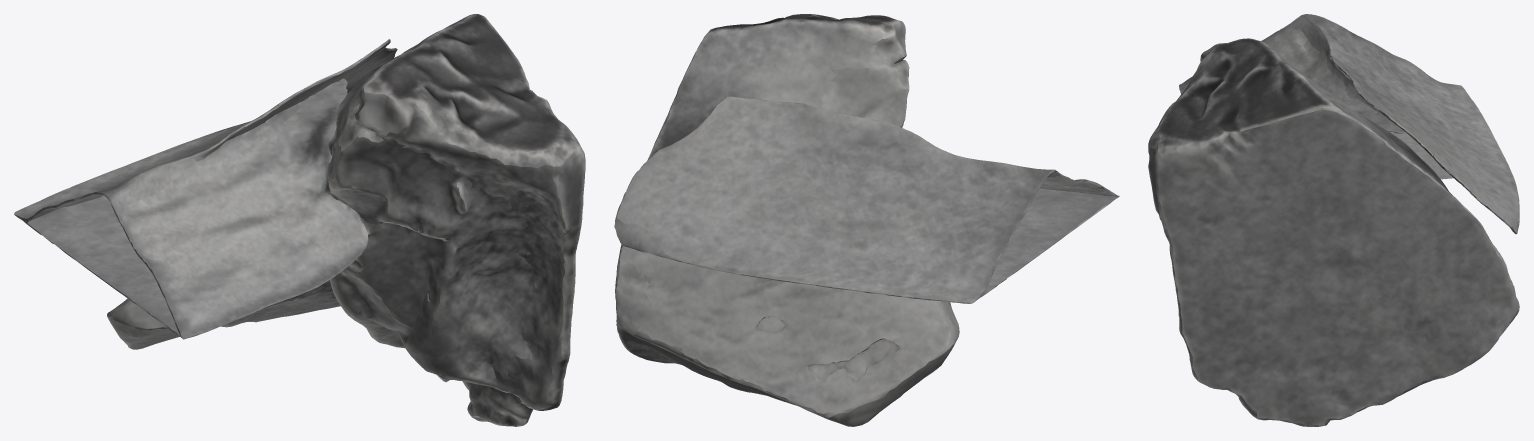
3 renders of one model, left to right at view 1: azimuth 30°, elevation 25°; view 2: azimuth 150°, elevation 25°; view 3: azimuth 270°, elevation 25°, orthographic. The views are drawn at different scales.
Parts seen in each view (by area): view 1: world; view 2: world; view 3: world.
Part boxes in pixels (left/top/right/bottom): world: left=14, top=14, right=585, bottom=426; world: left=614, top=14, right=1119, bottom=426; world: left=1148, top=14, right=1519, bottom=426.
Bounding box in the file's own units: 1.51 × 1.5 × 1.5.
Materials: 1 (1 with a texture image).
